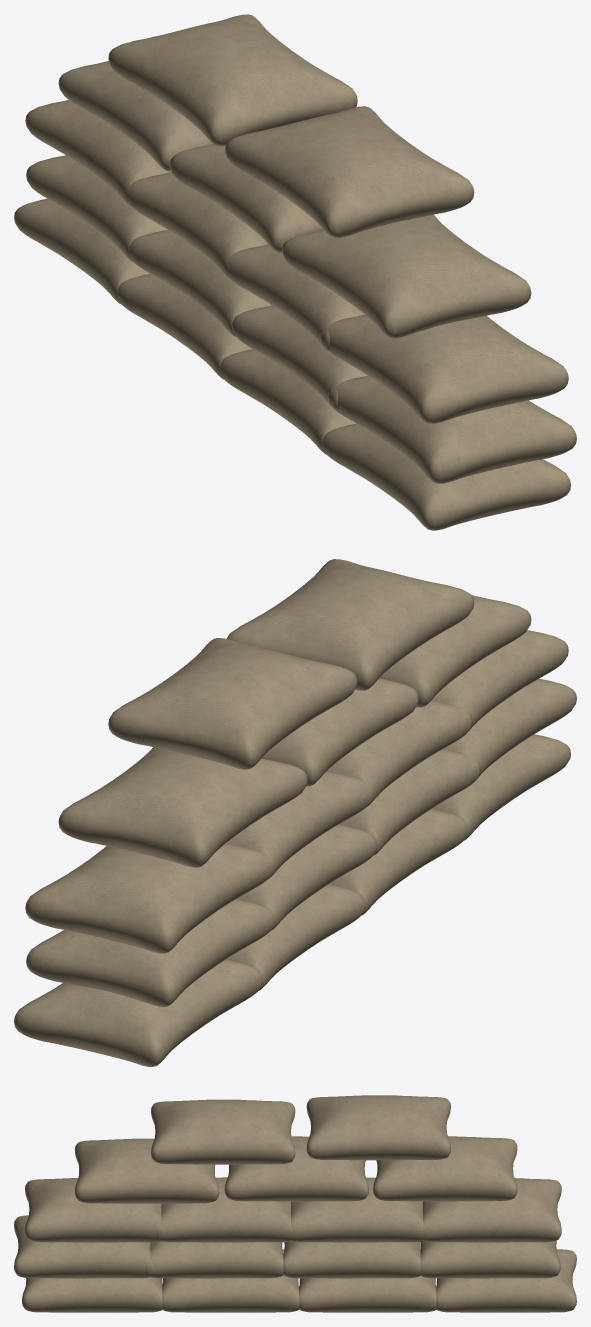
Rendered from TravesseirozadaPilhazada.fbx.
3 views of the same model, one above another, from view 1: azimuth 30°, elevation 25°; view 2: azimuth 150°, elevation 25°; view 3: azimuth 270°, elevation 25° (orthographic). The views are drawn at different scales.
Parts seen in each view (by area): view 1: pCube21; view 2: pCube21; view 3: pCube21.
Part boxes in pixels (x1,y1,x2,y2): pCube21: [14, 14, 576, 530]; pCube21: [14, 559, 576, 1066]; pCube21: [14, 1095, 576, 1312].
Size of the model in its own units: 4.07 by 8.02 by 20.26.
